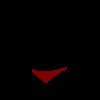mutande: (32, 66, 67, 83)
